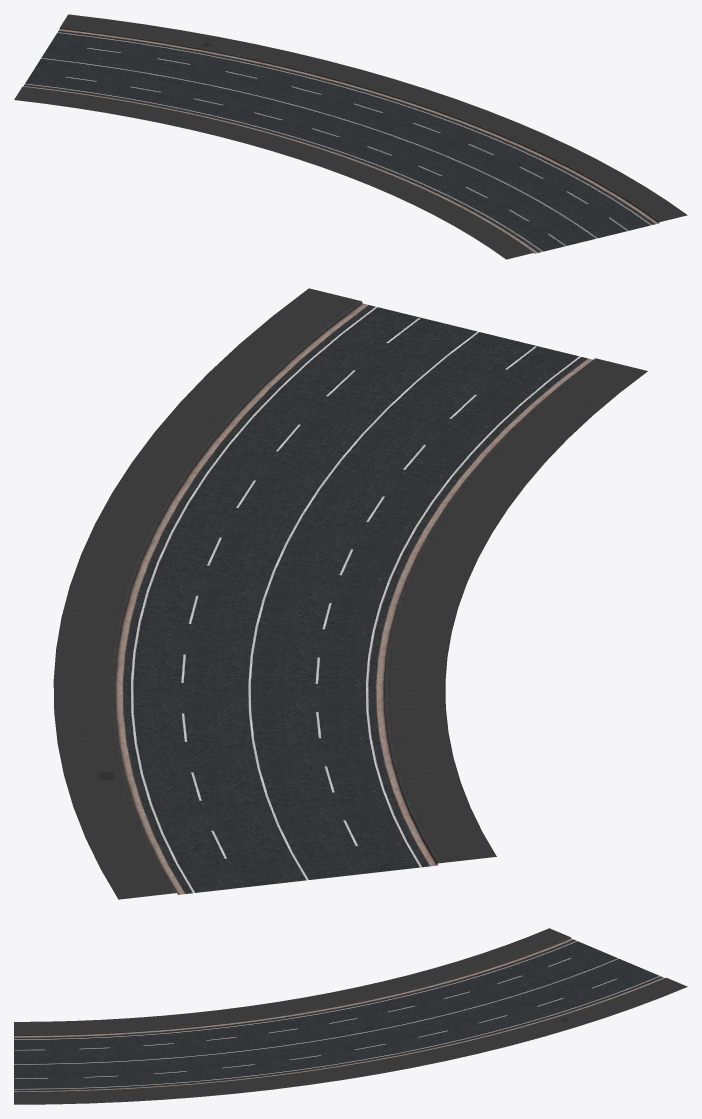
The model's file is or_city_road_4ways_cont_marking_45left.fbx.
3 renders of one model, top to bottom at view 1: azimuth 30°, elevation 25°; view 2: azimuth 150°, elevation 25°; view 3: azimuth 270°, elevation 25°, orthographic. The views are drawn at different scales.
Parts seen in each view (by area): view 1: obj0; view 2: obj0; view 3: obj0.
Boxes of the visible parts, bbox=[...] form: obj0: bbox=[14, 14, 687, 259]; obj0: bbox=[53, 288, 647, 899]; obj0: bbox=[14, 928, 687, 1104].
Bounding box in the file's own units: 94.77 × 0.254 × 153.
